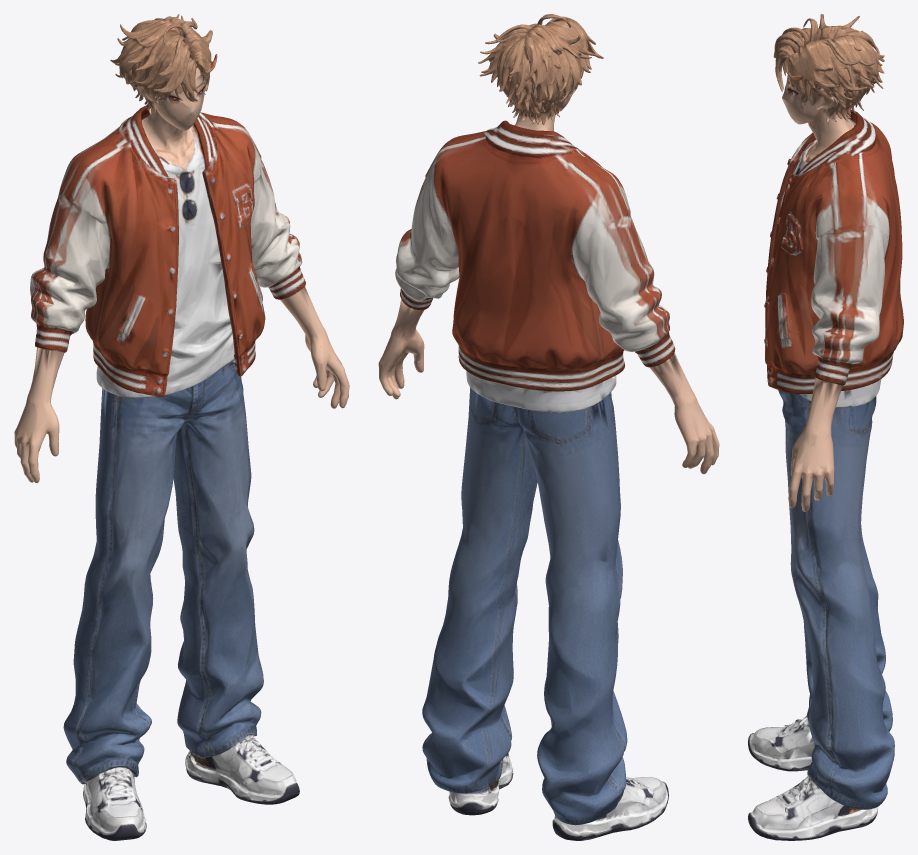
File: zhou_ye.glb
3 views of the same model, side by side, from view 1: azimuth 30°, elevation 25°; view 2: azimuth 150°, elevation 25°; view 3: azimuth 270°, elevation 25° (orthographic). The views are drawn at different scales.
Visible parts, largest first — view 1: Mesh_0; view 2: Mesh_0; view 3: Mesh_0.
Part boxes in pixels (x1=…): Mesh_0: x1=14, y1=14, x2=349, y2=840; Mesh_0: x1=378, y1=14, x2=719, y2=840; Mesh_0: x1=748, y1=14, x2=903, y2=840.
Bounding box in the file's own units: 0.7154 × 1.65 × 0.3021.
Materials: 1 (1 with a texture image).
